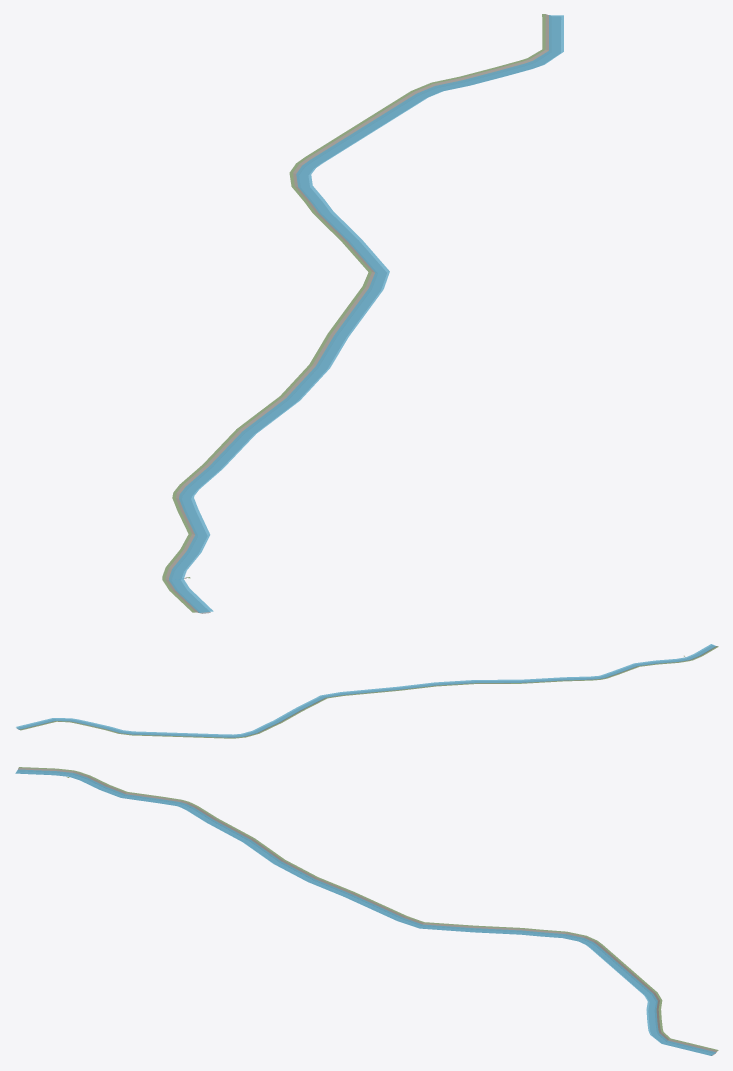
File: corridor-06.glb
3 views of the same model, one above another, from view 1: azimuth 30°, elevation 25°; view 2: azimuth 150°, elevation 25°; view 3: azimuth 270°, elevation 25° (orthographic). The views are drawn at different scales.
Visible parts, largest first — view 1: water_water, concreteDark_terrain, rock_terrain, grass_terrain; view 2: water_water, concreteDark_terrain, grass_terrain, rock_terrain; view 3: water_water, rock_terrain, concreteDark_terrain, grass_terrain.
Part boxes in pixels (x1=…): water_water: x1=169, y1=15, x2=563, y2=612; concreteDark_terrain: x1=172, y1=17, x2=560, y2=613; rock_terrain: x1=165, y1=14, x2=550, y2=613; grass_terrain: x1=162, y1=14, x2=545, y2=612; water_water: x1=16, y1=644, x2=716, y2=737; concreteDark_terrain: x1=16, y1=645, x2=714, y2=736; grass_terrain: x1=20, y1=646, x2=718, y2=738; rock_terrain: x1=19, y1=646, x2=717, y2=737; water_water: x1=15, y1=769, x2=715, y2=1055; rock_terrain: x1=18, y1=768, x2=717, y2=1053; concreteDark_terrain: x1=17, y1=771, x2=715, y2=1055; grass_terrain: x1=18, y1=767, x2=718, y2=1050.
Size of the model in its own units: 8733 by 42.89 by 8923.
Materials: 4 (4 with a texture image).
